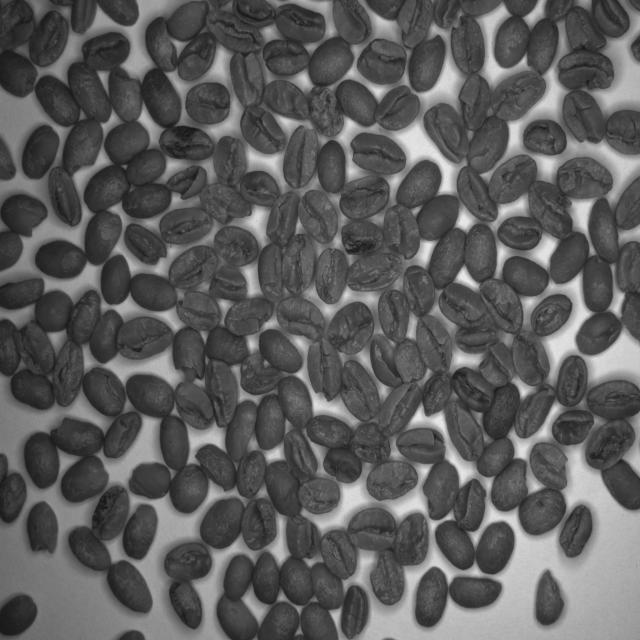bad: (422, 101, 470, 164), (491, 70, 547, 122), (528, 179, 574, 241), (486, 152, 538, 206), (326, 299, 376, 355), (344, 248, 404, 294), (584, 417, 636, 470), (556, 48, 618, 92), (61, 116, 105, 178), (466, 115, 511, 175), (479, 277, 525, 335), (338, 357, 379, 422), (377, 379, 422, 438), (574, 309, 624, 362), (282, 123, 322, 189), (206, 8, 266, 52), (443, 398, 485, 460), (586, 376, 640, 424), (80, 364, 128, 418), (456, 164, 499, 224), (557, 154, 613, 200), (117, 316, 173, 362), (587, 194, 624, 263), (47, 162, 83, 232), (238, 102, 286, 154), (350, 131, 408, 174), (382, 200, 422, 262), (562, 90, 606, 146), (198, 180, 254, 224), (347, 502, 397, 551), (1, 188, 48, 240), (26, 8, 68, 66), (514, 382, 556, 440), (308, 36, 356, 86), (298, 186, 338, 246), (91, 482, 131, 542), (422, 459, 460, 522), (489, 456, 530, 514), (159, 204, 213, 248), (580, 248, 616, 314), (306, 337, 342, 403), (205, 357, 238, 429), (366, 459, 420, 503), (416, 313, 454, 375), (158, 122, 216, 162), (48, 416, 106, 456), (168, 243, 218, 289), (549, 230, 590, 286), (274, 1, 326, 45), (0, 44, 40, 101), (107, 66, 145, 126), (450, 13, 486, 76), (356, 39, 406, 84), (511, 330, 551, 386), (529, 438, 570, 492), (68, 525, 114, 573), (64, 288, 102, 346), (276, 296, 326, 340), (340, 174, 390, 218), (172, 323, 208, 384), (178, 30, 220, 82), (282, 230, 314, 298), (408, 32, 444, 92), (229, 52, 265, 112), (264, 188, 300, 248), (438, 284, 486, 328), (458, 72, 492, 134), (224, 295, 274, 337), (162, 540, 212, 582), (103, 408, 143, 460), (452, 365, 496, 412), (173, 381, 214, 431), (144, 12, 178, 72), (314, 246, 348, 306), (224, 400, 258, 460), (368, 548, 403, 606), (186, 81, 232, 125), (239, 350, 283, 396), (564, 5, 606, 53), (262, 78, 310, 120), (82, 30, 130, 72), (394, 510, 430, 566), (321, 528, 357, 584), (194, 444, 236, 492), (167, 574, 204, 628), (308, 81, 344, 136), (370, 333, 406, 388), (214, 223, 259, 267), (530, 291, 572, 338), (26, 498, 60, 556), (165, 0, 213, 41), (396, 0, 434, 51), (123, 222, 169, 264), (175, 290, 221, 332), (203, 325, 251, 365), (527, 18, 561, 74), (558, 504, 592, 560), (450, 575, 506, 609), (212, 134, 247, 188), (402, 263, 437, 317), (242, 499, 278, 551), (394, 428, 447, 463), (283, 428, 318, 481), (128, 459, 172, 501), (522, 117, 568, 157), (0, 0, 36, 51), (262, 38, 310, 76), (257, 239, 285, 304), (480, 339, 516, 389), (534, 566, 564, 626), (284, 512, 320, 562), (0, 273, 46, 312), (378, 288, 410, 344), (306, 412, 354, 449), (332, 0, 373, 43), (164, 162, 208, 202), (556, 354, 588, 409), (550, 408, 596, 446), (339, 582, 369, 640), (454, 476, 486, 530), (350, 423, 392, 464), (607, 106, 640, 158), (341, 217, 385, 256), (394, 334, 428, 384), (235, 448, 268, 498), (0, 467, 27, 527), (422, 368, 454, 417), (322, 447, 364, 484), (299, 477, 342, 513), (497, 216, 542, 250), (240, 170, 280, 208), (206, 264, 248, 300), (454, 322, 498, 356), (616, 238, 640, 296), (232, 0, 276, 28), (620, 288, 640, 342), (544, 0, 576, 22)
good: (67, 58, 114, 125), (107, 558, 154, 618), (142, 64, 184, 128), (200, 493, 246, 551), (13, 317, 58, 376), (428, 223, 467, 291), (394, 157, 442, 209), (34, 73, 80, 127), (83, 163, 130, 215), (52, 337, 86, 408), (61, 454, 110, 503), (84, 208, 124, 268), (519, 486, 567, 536), (482, 379, 520, 442), (23, 428, 61, 491), (20, 122, 60, 181), (125, 372, 177, 417), (476, 518, 516, 575), (602, 456, 640, 515), (34, 238, 89, 278), (8, 365, 58, 409), (374, 84, 419, 132), (168, 462, 208, 516), (122, 502, 158, 562), (434, 519, 475, 571), (266, 458, 304, 514), (104, 120, 150, 166), (416, 194, 460, 242), (464, 222, 498, 284), (414, 564, 448, 626), (128, 271, 178, 313), (216, 593, 260, 640), (335, 78, 378, 126), (502, 254, 550, 296), (121, 180, 171, 220), (494, 14, 530, 69), (258, 331, 304, 373), (90, 308, 124, 364), (160, 411, 190, 474), (34, 287, 75, 333), (1, 590, 38, 640), (278, 375, 312, 429), (280, 554, 314, 606), (476, 434, 516, 478), (257, 600, 301, 640), (317, 138, 347, 196), (256, 394, 286, 450), (222, 552, 255, 602), (126, 147, 167, 187), (253, 548, 281, 606), (100, 252, 130, 306), (312, 560, 344, 610), (301, 601, 339, 640), (615, 175, 640, 231), (592, 0, 630, 36), (0, 316, 20, 378), (97, 0, 141, 28), (0, 228, 24, 273), (69, 0, 99, 34)
